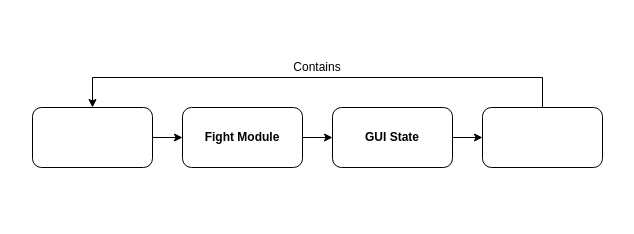
The diagram is 634 pixels wide and 234 high, and some of its shapes have lost their labels. The box of each missing label's shape, as (x1, y1, x2, y2) in pixels:
GUI: (482, 106, 602, 168)
GUI Component: (32, 106, 152, 168)
